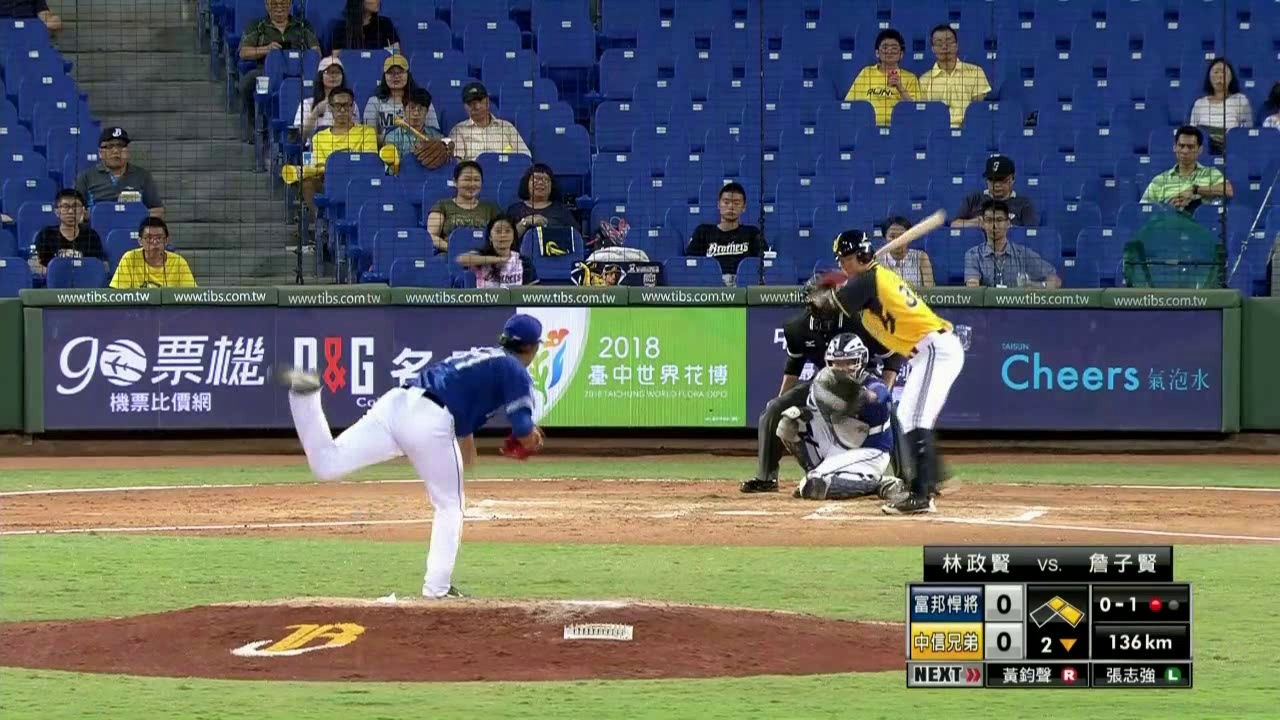ball: (822, 389, 836, 404)
base: (1025, 590, 1086, 629)
bat: (866, 206, 951, 258)
out: (1144, 588, 1188, 619)
score1: (987, 588, 1020, 619)
score2: (986, 625, 1020, 655)
session: (1025, 628, 1085, 660)
speed: (1094, 628, 1186, 656)
strikeball: (1093, 588, 1141, 620)
